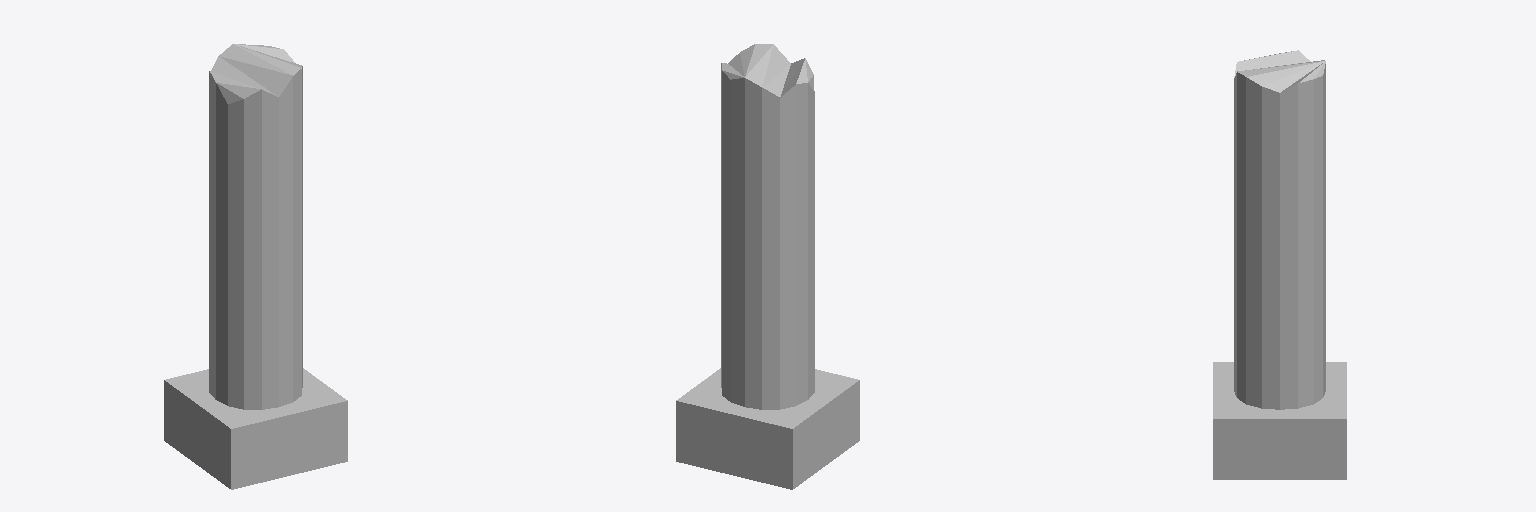
File: pillar1.obj
3 renders of one model, left to right at view 1: azimuth 30°, elevation 25°; view 2: azimuth 150°, elevation 25°; view 3: azimuth 270°, elevation 25°, orthographic.
Visible parts, largest first — view 1: pillar.001_Cube.003; view 2: pillar.001_Cube.003; view 3: pillar.001_Cube.003.
Boxes of the visible parts, <box> form: pillar.001_Cube.003: <box>164,44,347,489</box>; pillar.001_Cube.003: <box>676,44,859,489</box>; pillar.001_Cube.003: <box>1213,50,1346,479</box>.
Size of the model in its own units: 4 by 12.82 by 4.